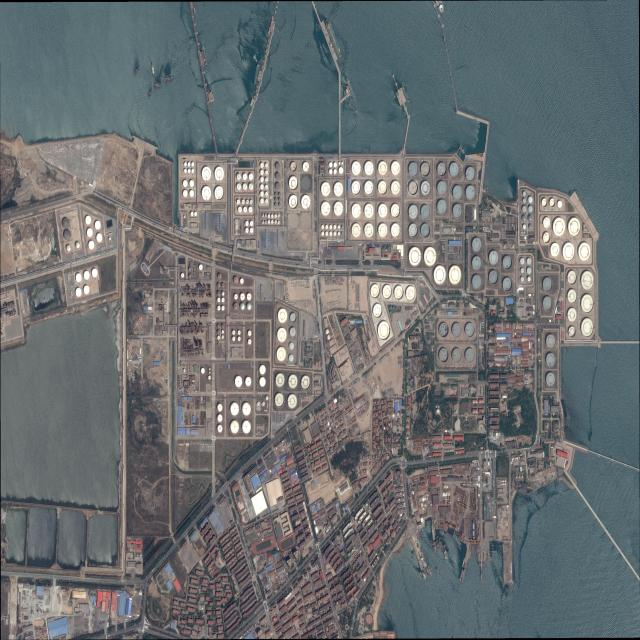ship: (324, 18, 343, 60), (321, 20, 338, 61), (346, 76, 357, 102), (253, 61, 260, 86), (401, 83, 409, 103), (202, 46, 208, 69), (472, 520, 475, 540), (151, 64, 155, 76), (459, 569, 463, 581), (134, 65, 139, 74), (135, 66, 140, 75), (440, 541, 444, 551), (429, 570, 433, 577), (462, 558, 465, 567), (445, 550, 448, 559), (254, 56, 258, 62), (148, 91, 151, 97), (149, 92, 152, 98), (155, 81, 157, 89), (156, 81, 158, 89), (157, 82, 159, 90), (158, 82, 160, 90), (166, 75, 168, 83), (167, 75, 169, 83), (169, 74, 171, 82), (170, 74, 172, 82), (458, 545, 461, 550), (439, 541, 441, 548), (154, 81, 156, 88), (165, 76, 167, 83), (462, 148, 465, 152), (159, 84, 161, 90), (438, 543, 440, 548), (168, 74, 169, 83), (460, 145, 462, 149)
storage-tank: (578, 242, 591, 262), (581, 271, 594, 290), (568, 218, 581, 237), (581, 294, 594, 313), (581, 318, 594, 337), (378, 321, 390, 341), (449, 265, 461, 285), (553, 218, 565, 237), (434, 266, 446, 285), (409, 247, 421, 266), (424, 247, 436, 266), (563, 243, 575, 261), (277, 328, 287, 343), (301, 375, 311, 390), (301, 195, 311, 210), (278, 308, 288, 323), (567, 289, 577, 304), (321, 182, 331, 197), (502, 277, 512, 292), (472, 256, 482, 271), (364, 223, 374, 238), (370, 284, 380, 299), (378, 223, 388, 238), (378, 180, 388, 195), (364, 204, 374, 219), (351, 181, 361, 196), (378, 161, 388, 176), (439, 322, 449, 337), (439, 348, 449, 363), (452, 348, 462, 363), (465, 348, 475, 363), (394, 285, 404, 300), (437, 199, 447, 214), (408, 162, 418, 177), (437, 162, 447, 177), (449, 162, 459, 177), (453, 184, 462, 200), (288, 375, 298, 389), (567, 271, 577, 285), (489, 251, 499, 265), (373, 304, 383, 318), (378, 204, 388, 218), (364, 181, 374, 195), (364, 161, 374, 175), (277, 347, 286, 362), (275, 392, 284, 407), (288, 394, 297, 409), (276, 373, 285, 388), (289, 176, 298, 191), (202, 186, 211, 201), (215, 186, 224, 201), (215, 166, 224, 181), (551, 243, 560, 258), (543, 277, 552, 292), (543, 296, 552, 311), (503, 256, 512, 271), (489, 270, 498, 285), (472, 274, 481, 289), (352, 223, 361, 238), (391, 161, 400, 176), (391, 223, 400, 238), (391, 203, 400, 218), (352, 203, 361, 218), (334, 182, 343, 197), (352, 161, 361, 176), (391, 180, 400, 195), (472, 237, 481, 252), (465, 322, 474, 337), (453, 203, 462, 218), (406, 286, 415, 301), (409, 223, 418, 238), (421, 223, 430, 238), (421, 180, 430, 195), (421, 162, 430, 177), (466, 166, 475, 181), (466, 185, 475, 200), (242, 402, 251, 416), (242, 420, 251, 434), (289, 195, 298, 209), (202, 167, 211, 181), (568, 308, 577, 322), (546, 353, 555, 367), (546, 373, 555, 387), (383, 285, 392, 299), (321, 202, 330, 216), (334, 202, 343, 216), (452, 323, 461, 337), (409, 205, 418, 219), (421, 205, 430, 219), (409, 181, 418, 195), (437, 181, 446, 195), (230, 403, 239, 416), (546, 335, 555, 348), (231, 420, 239, 434), (62, 218, 70, 229), (569, 326, 576, 338), (543, 232, 550, 244), (235, 376, 242, 387), (543, 217, 550, 228), (290, 162, 297, 172), (290, 313, 297, 323), (64, 230, 71, 240), (541, 198, 548, 208), (259, 377, 266, 386), (75, 273, 82, 282), (75, 288, 82, 297), (260, 365, 266, 375), (290, 327, 296, 337), (303, 162, 309, 172), (85, 215, 91, 225), (84, 285, 90, 295), (92, 268, 98, 278), (96, 233, 102, 243), (87, 228, 93, 237), (89, 241, 95, 250), (84, 271, 90, 280), (95, 221, 101, 230), (550, 198, 556, 207), (217, 414, 223, 422), (234, 276, 239, 284), (240, 303, 245, 311), (245, 377, 253, 382), (289, 342, 294, 350), (289, 354, 294, 362), (247, 293, 252, 300), (275, 183, 280, 190), (240, 293, 245, 300), (247, 303, 252, 310), (189, 180, 194, 187), (183, 190, 188, 197), (189, 190, 194, 197), (183, 180, 188, 187), (66, 245, 71, 252), (520, 258, 525, 265), (557, 201, 562, 208), (528, 196, 533, 203), (528, 205, 533, 212), (276, 172, 280, 180), (234, 303, 238, 311), (218, 425, 222, 433), (218, 404, 222, 412), (339, 167, 343, 175), (236, 174, 241, 180), (276, 163, 280, 170), (76, 242, 80, 249), (237, 183, 241, 190), (249, 183, 253, 190), (527, 258, 531, 265), (527, 267, 531, 274), (528, 215, 532, 222), (522, 215, 526, 222), (522, 205, 526, 212), (240, 278, 244, 284), (234, 294, 238, 300), (248, 339, 252, 345), (260, 198, 264, 204), (260, 191, 264, 197), (248, 207, 252, 213), (243, 184, 247, 190), (243, 207, 247, 213), (260, 184, 264, 190), (249, 174, 253, 180), (243, 174, 247, 180), (201, 368, 205, 374), (327, 334, 331, 340), (248, 331, 252, 336), (245, 221, 249, 226), (245, 228, 249, 233), (199, 265, 203, 270), (218, 274, 222, 279), (238, 207, 242, 212), (260, 163, 264, 168), (260, 170, 264, 175), (260, 177, 264, 182), (325, 329, 329, 334), (334, 162, 337, 168), (217, 297, 220, 303), (222, 297, 225, 303), (217, 305, 220, 311), (521, 276, 524, 282), (523, 224, 526, 230), (238, 330, 241, 335), (238, 336, 241, 341), (334, 169, 337, 174), (250, 221, 253, 226), (250, 228, 253, 233), (257, 401, 260, 406), (329, 162, 332, 167), (262, 401, 265, 406), (181, 273, 184, 278), (222, 306, 225, 311), (222, 283, 225, 288), (222, 291, 225, 296), (237, 199, 240, 204), (242, 199, 245, 204), (222, 324, 225, 329), (265, 170, 268, 175), (265, 177, 268, 182), (265, 184, 268, 189), (232, 330, 235, 335), (232, 336, 235, 341), (208, 375, 211, 380), (329, 169, 332, 174), (558, 301, 561, 306), (558, 307, 561, 312), (521, 268, 524, 273), (528, 276, 531, 281), (383, 246, 386, 251), (387, 246, 390, 251), (321, 231, 324, 236), (325, 231, 328, 236), (329, 231, 332, 236), (333, 231, 336, 236), (529, 224, 532, 229), (523, 191, 526, 196), (523, 198, 526, 203), (271, 214, 274, 218), (271, 220, 274, 224), (274, 214, 277, 218), (274, 220, 277, 224), (309, 347, 312, 351), (306, 347, 309, 351), (266, 396, 269, 400), (265, 199, 268, 203), (265, 192, 268, 196), (191, 212, 194, 216), (194, 212, 197, 216), (191, 169, 194, 173), (188, 169, 191, 173), (184, 169, 187, 173), (184, 162, 187, 166), (188, 162, 191, 166), (191, 162, 194, 166), (217, 324, 220, 328), (246, 200, 249, 204), (250, 200, 253, 204), (265, 163, 268, 167), (217, 336, 220, 340), (389, 306, 392, 310), (321, 225, 324, 229), (325, 225, 328, 229), (329, 225, 332, 229), (333, 225, 336, 229), (189, 267, 191, 272), (218, 283, 220, 288), (218, 291, 220, 296), (338, 231, 340, 236), (341, 232, 344, 235), (279, 192, 281, 196), (268, 214, 270, 218), (262, 214, 264, 218), (268, 220, 270, 224), (275, 203, 277, 207), (339, 161, 341, 165), (189, 274, 191, 278), (218, 330, 220, 334), (222, 330, 224, 334), (222, 335, 224, 339), (546, 424, 548, 428), (516, 475, 518, 479), (518, 475, 520, 479), (521, 475, 523, 479), (393, 306, 395, 310), (338, 225, 340, 229), (279, 198, 281, 201), (275, 193, 277, 196), (265, 214, 267, 217), (262, 221, 264, 224), (265, 221, 267, 224), (275, 198, 277, 201), (278, 214, 280, 217), (278, 221, 280, 224), (279, 203, 281, 206), (341, 162, 343, 165), (109, 237, 111, 240), (183, 369, 185, 372), (504, 245, 506, 248), (512, 245, 514, 248), (501, 480, 503, 483), (390, 311, 392, 314), (342, 226, 344, 229), (438, 405, 440, 408), (521, 231, 523, 234), (209, 368, 211, 370), (209, 372, 211, 374), (501, 483, 503, 485), (503, 480, 504, 483), (436, 405, 437, 408), (524, 231, 525, 234), (194, 271, 195, 273), (194, 274, 195, 276), (503, 483, 504, 485), (505, 480, 506, 482), (505, 483, 506, 485), (184, 216, 185, 218)
